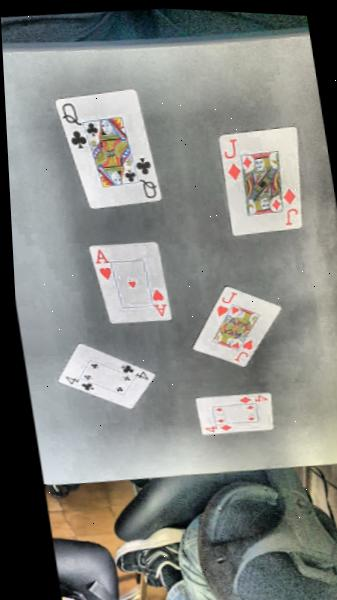4D: (236, 391, 268, 405), (202, 420, 232, 434)
4T: (62, 371, 93, 392), (118, 360, 147, 382)
AC: (91, 245, 113, 282), (149, 285, 168, 317)
JC: (213, 287, 240, 317), (230, 338, 255, 363)
JD: (220, 136, 242, 181), (278, 185, 299, 225)
QT: (59, 99, 87, 151), (132, 154, 157, 199)
